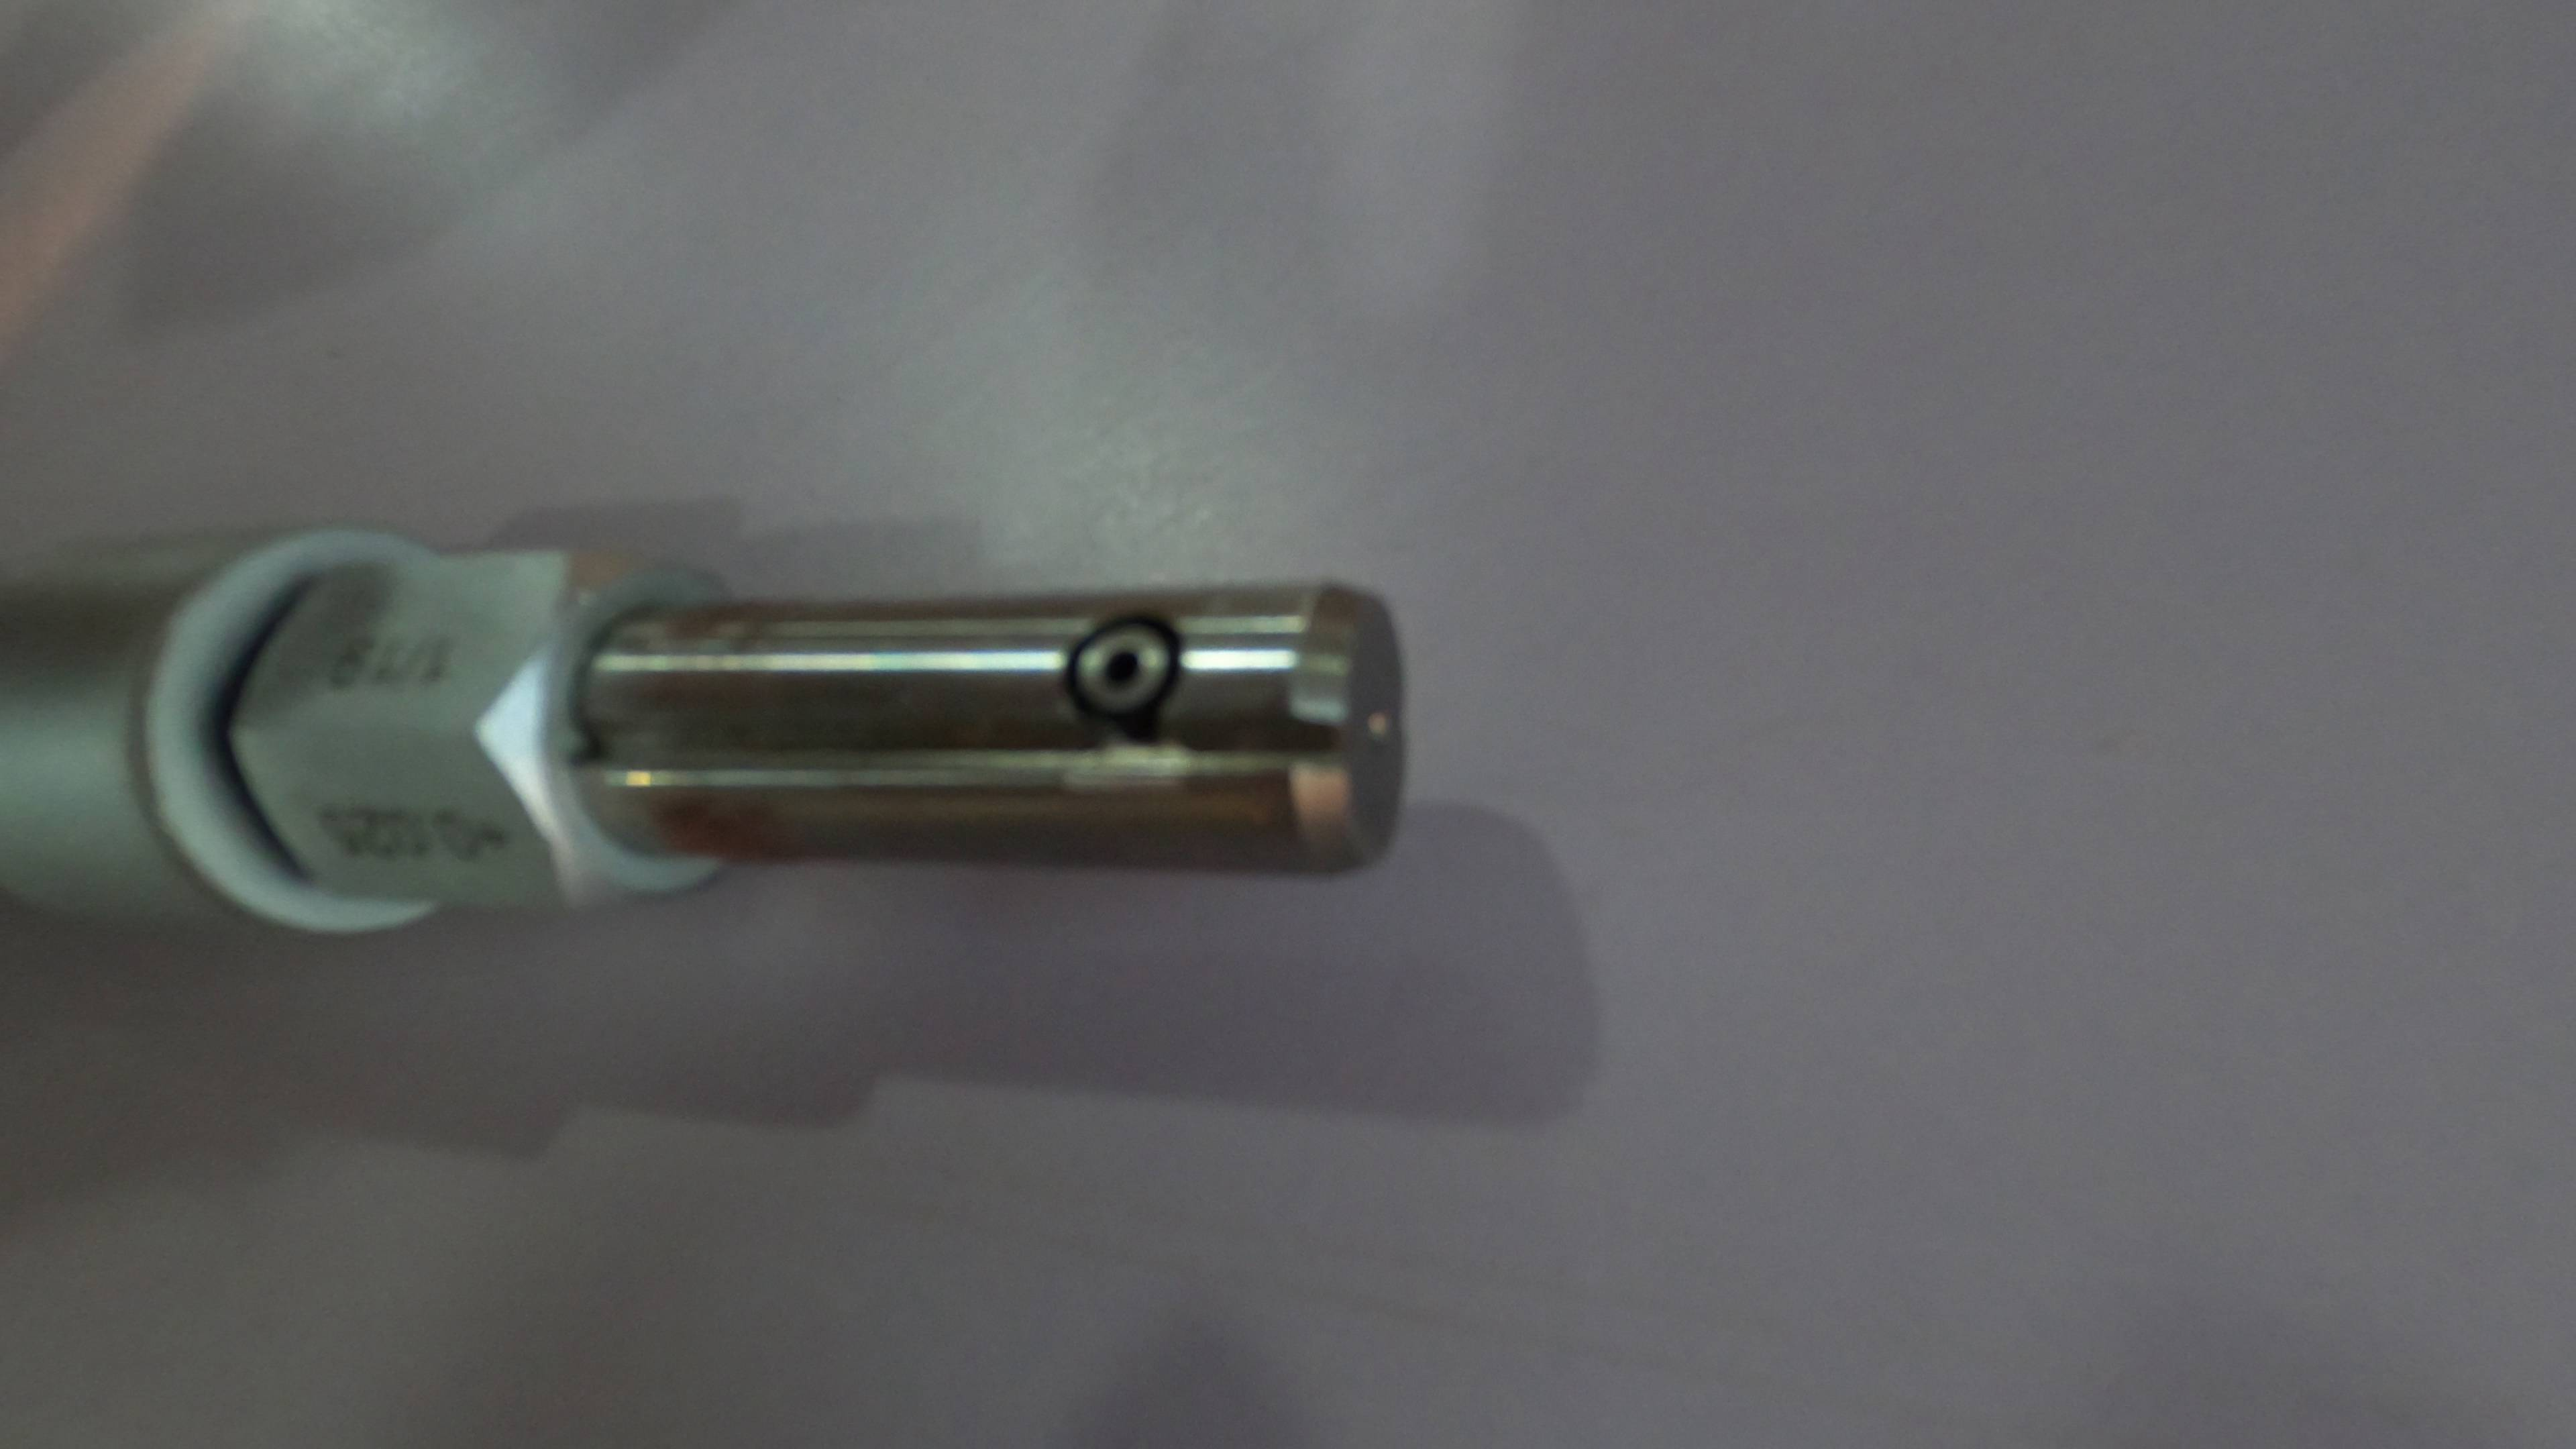air_gauge: (4, 522, 1424, 964)
